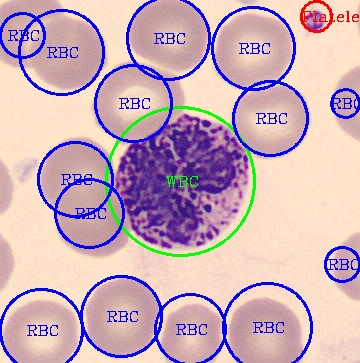Platelets: (297, 4, 329, 36)
RBC: (90, 56, 186, 145), (84, 274, 161, 361), (212, 10, 294, 91), (231, 82, 313, 161), (126, 0, 211, 73), (53, 177, 129, 258), (29, 15, 109, 91), (39, 133, 113, 207), (227, 295, 306, 362), (0, 296, 79, 361), (0, 0, 67, 68), (159, 300, 223, 361)
WBC: (116, 115, 247, 250)
